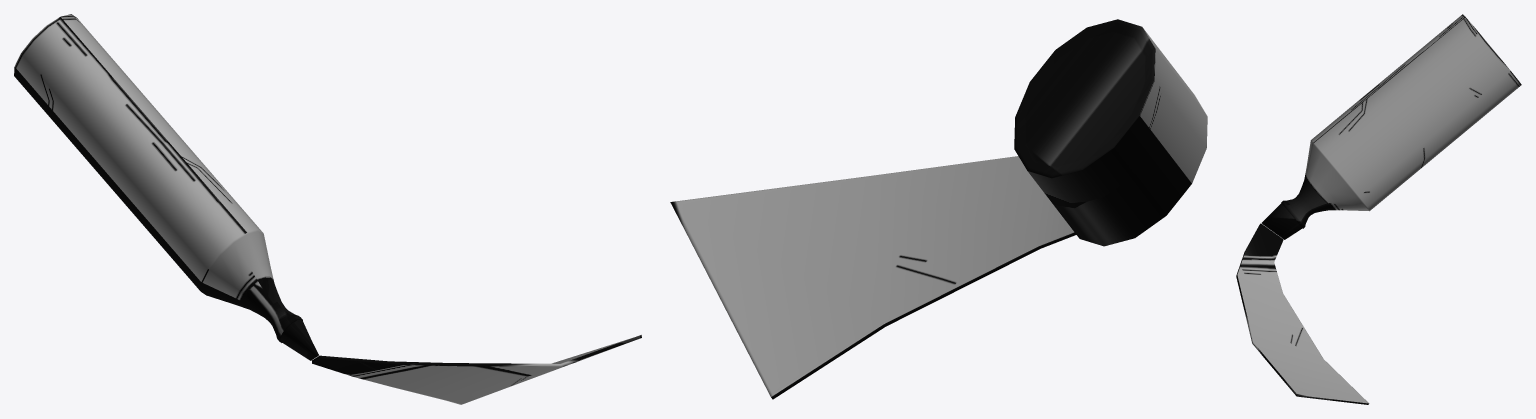
The model's file is StabiloJadi.fbx.
3 renders of one model, left to right at view 1: azimuth 30°, elevation 25°; view 2: azimuth 150°, elevation 25°; view 3: azimuth 270°, elevation 25°, orthographic. The views are drawn at different scales.
Visible parts, largest first — view 1: Plane; view 2: Plane; view 3: Plane.
Part boxes in pixels (bbox=[...]): Plane: bbox=[14, 14, 641, 404]; Plane: bbox=[670, 19, 1207, 399]; Plane: bbox=[1236, 14, 1521, 404].
Size of the model in its own units: 680 by 551 by 510.
